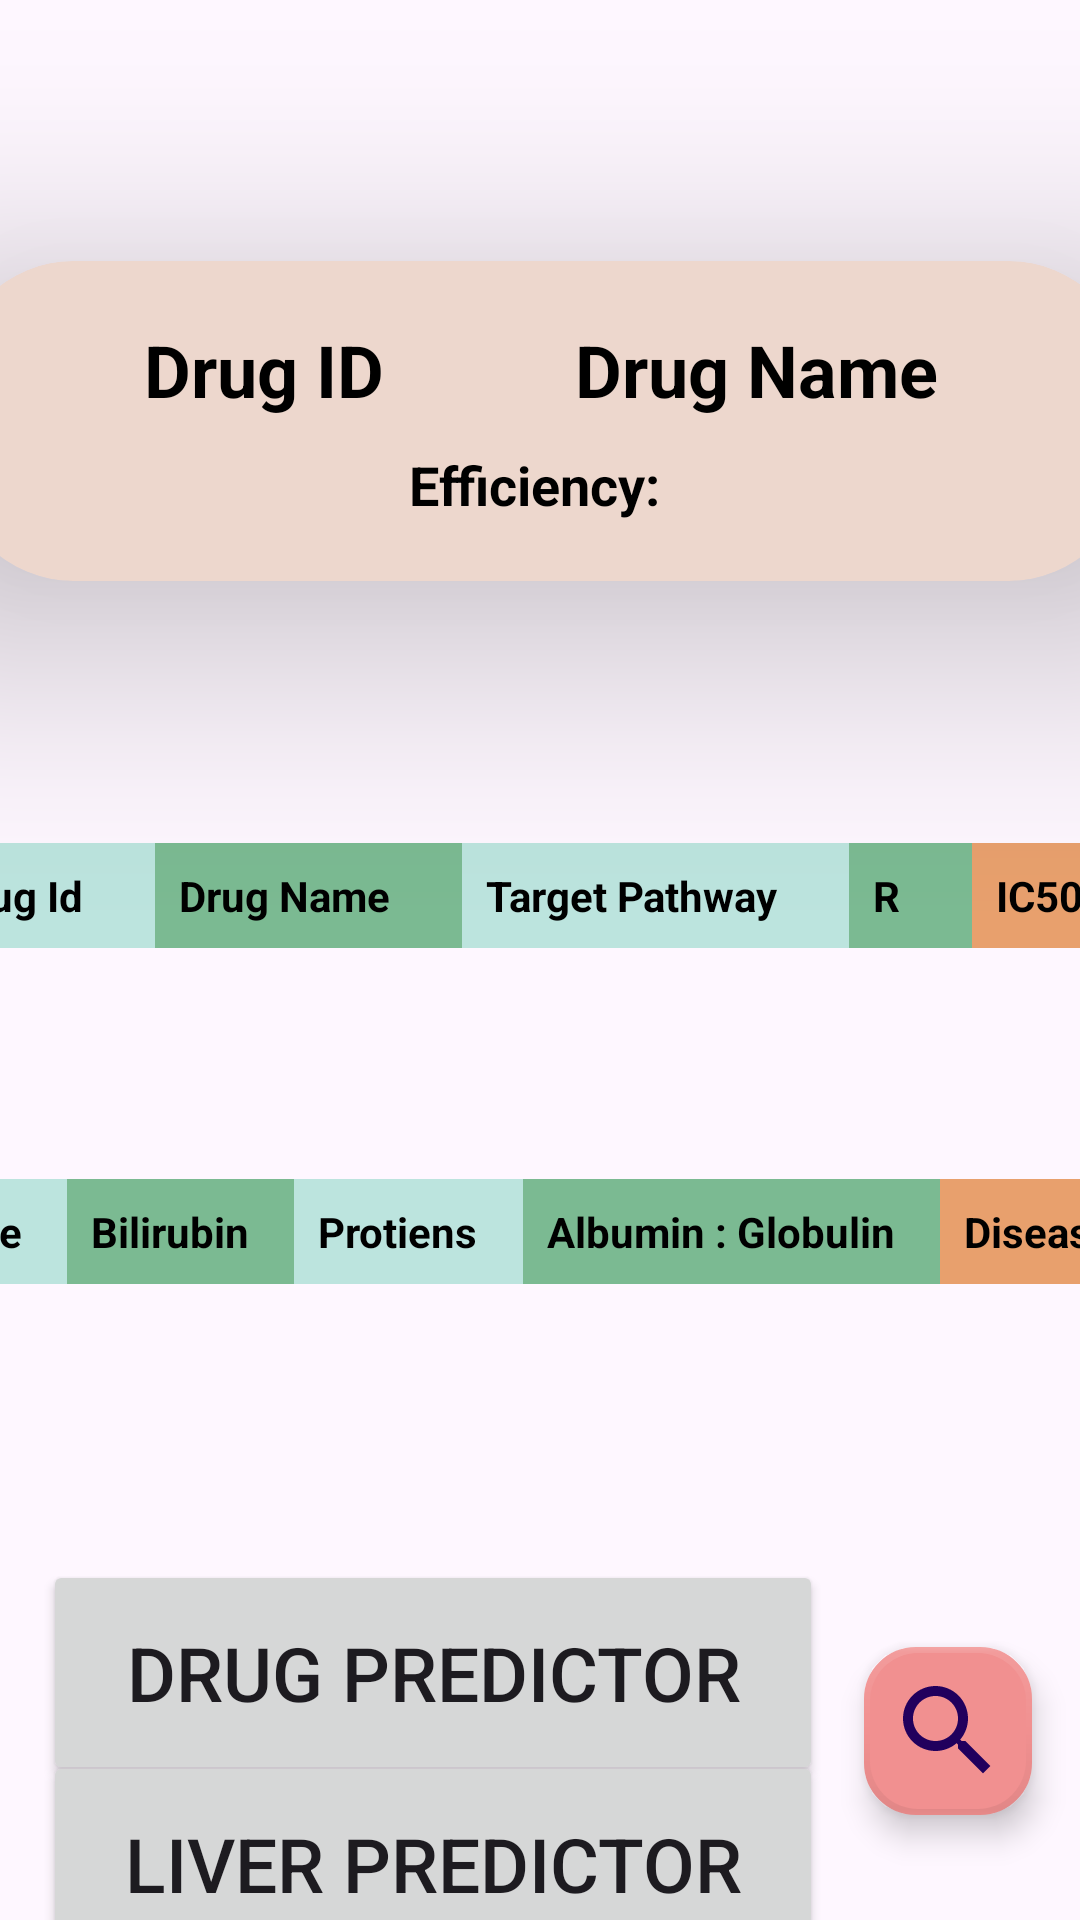

Screen size 1080 × 1920. Icon name, then its box in pixels as (x1, y1, x2, y2):
search: (864, 1647, 1032, 1815)
